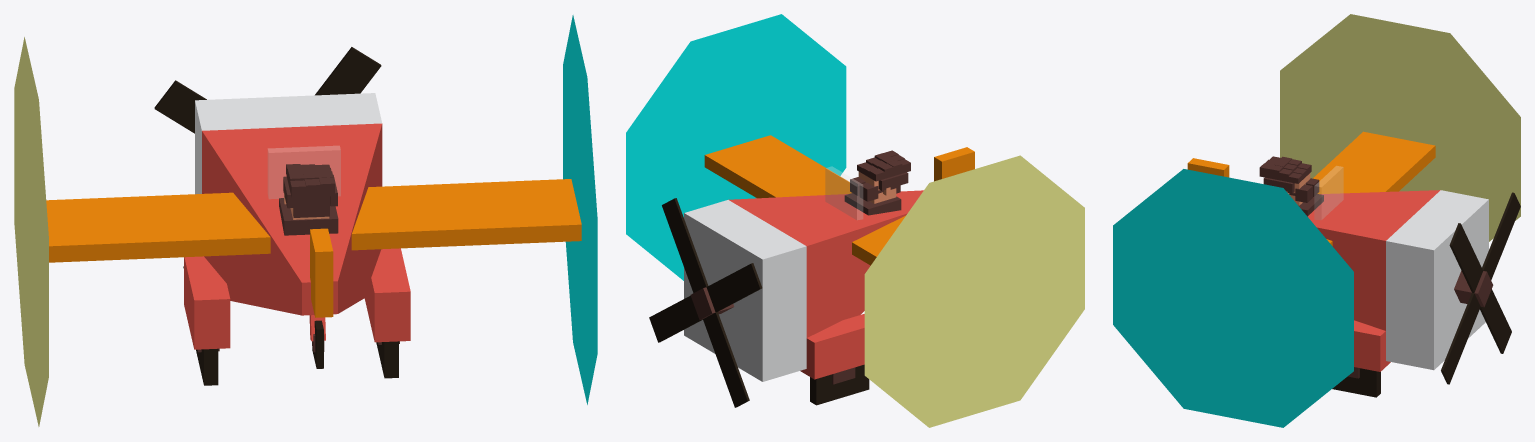
3 renders of one model, left to right at view 1: azimuth 30°, elevation 25°; view 2: azimuth 150°, elevation 25°; view 3: azimuth 270°, elevation 25°, orthographic. The views are drawn at different scales.
Visible parts, largest first — view 1: airplane, octagon-right, octagon-left, propeller, pilot, hairsTop; view 2: octagon-right, airplane, octagon-left, propeller, pilot, hairsTop; view 3: octagon-left, octagon-right, airplane, propeller, pilot, hairsTop.
Boxes of the visible parts, x1,y1,x2,y2 form: airplane: [46, 93, 581, 385]; octagon-right: [14, 37, 48, 426]; octagon-left: [563, 15, 597, 404]; propeller: [154, 47, 381, 268]; pilot: [279, 174, 338, 235]; hairsTop: [286, 164, 334, 197]; octagon-right: [864, 155, 1084, 427]; airplane: [684, 135, 974, 405]; octagon-left: [626, 14, 846, 280]; propeller: [649, 198, 762, 407]; pilot: [844, 171, 908, 215]; hairsTop: [857, 150, 910, 181]; octagon-left: [1113, 169, 1353, 427]; octagon-right: [1280, 14, 1520, 241]; airplane: [1187, 131, 1488, 397]; propeller: [1441, 192, 1520, 384]; pilot: [1263, 173, 1323, 216]; hairsTop: [1259, 156, 1311, 183].
Bounding box in the file's own units: 1.8 × 1.05 × 1.54.
